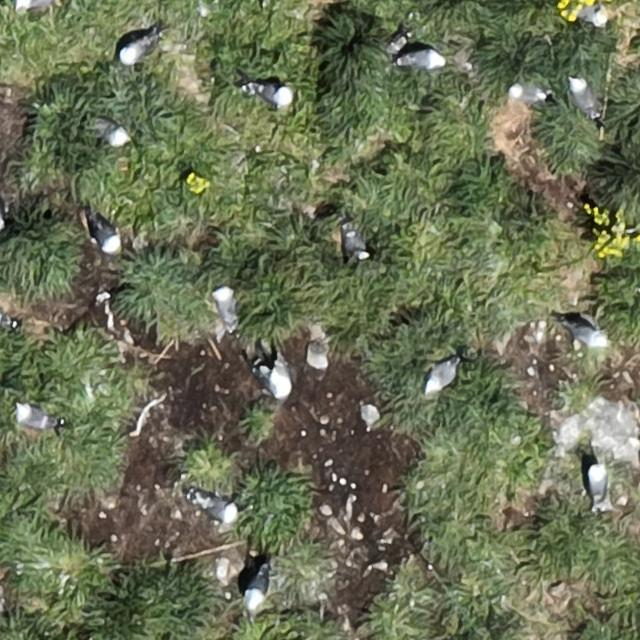umineko: (199, 498, 239, 523), (571, 80, 598, 116), (427, 360, 457, 390), (92, 220, 119, 253), (15, 406, 53, 429), (401, 50, 443, 70), (252, 84, 292, 105), (120, 37, 151, 64), (214, 288, 236, 325), (568, 322, 605, 344), (267, 365, 289, 399), (587, 464, 606, 502), (248, 570, 268, 606), (102, 124, 130, 147), (509, 85, 544, 103), (343, 228, 364, 258), (17, 0, 53, 8)
